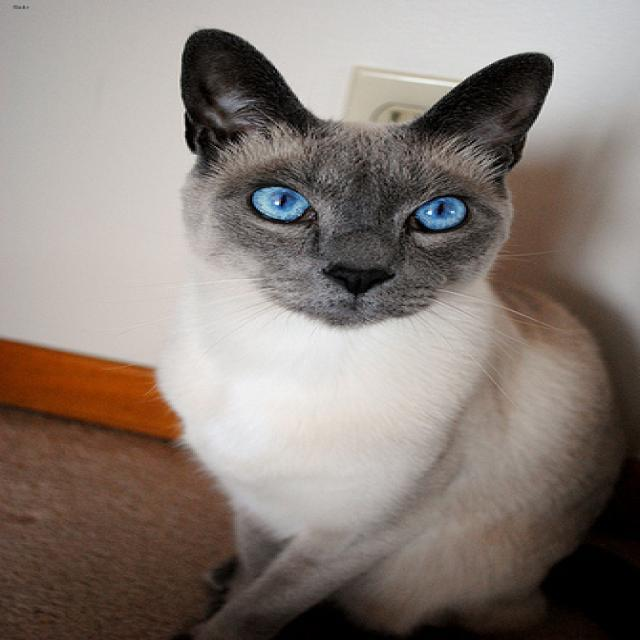Siamese: (174, 24, 557, 330)
